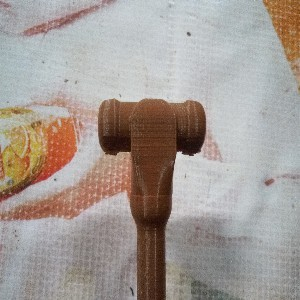palu: (98, 97, 206, 300)
